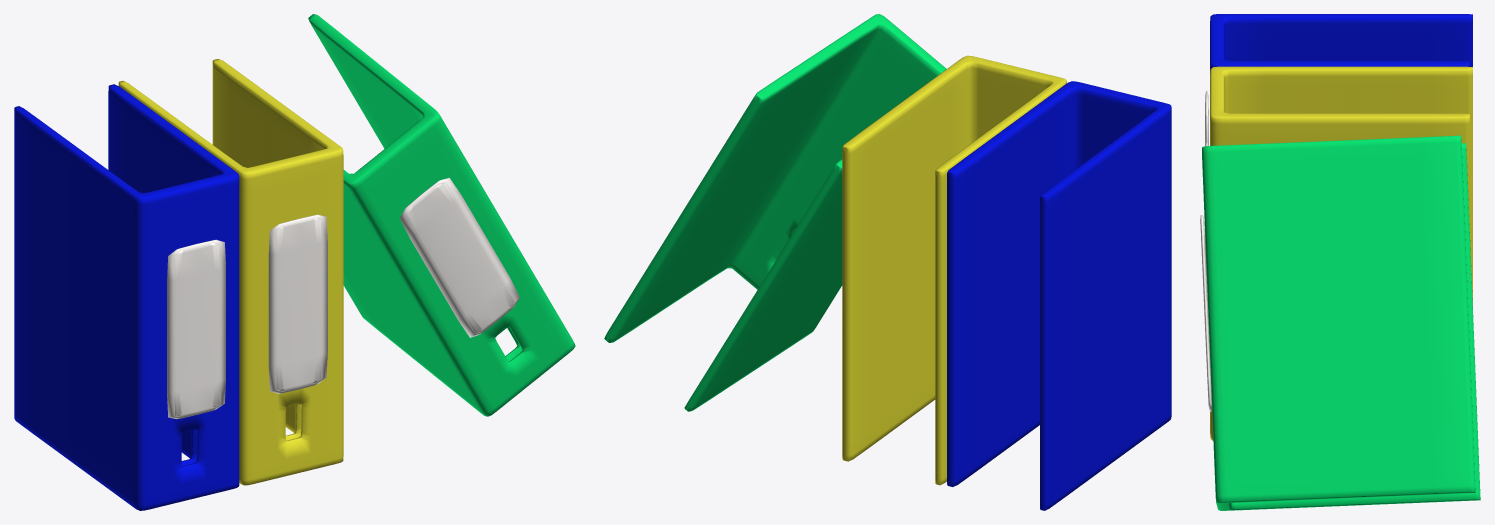
Rendered from Document_Folders.fbx.
The picture shows the model from 3 angles, left to right: view 1: azimuth 30°, elevation 25°; view 2: azimuth 150°, elevation 25°; view 3: azimuth 270°, elevation 25°; orthographic projection. The views are drawn at different scales.
Visible parts, largest first — view 1: Cube.003; view 2: Cube.003; view 3: Cube.003.
Part boxes in pixels (<box>): Cube.003: <box>14,14,575,510</box>; Cube.003: <box>604,14,1171,510</box>; Cube.003: <box>1200,14,1480,510</box>.
Bounding box in the file's own units: 157 × 115 × 83.21.
